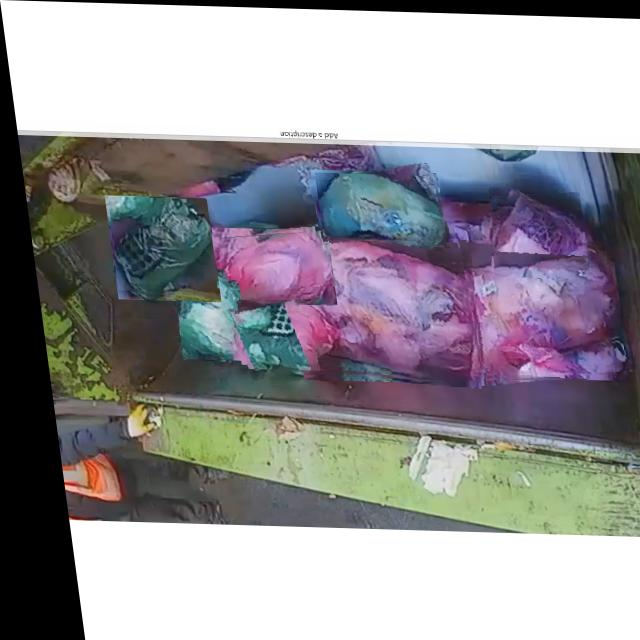general_trashbag: (106, 198, 205, 293), (314, 172, 438, 238), (226, 298, 308, 369), (170, 268, 227, 358)
other_trashbag: (284, 232, 463, 382), (457, 240, 609, 377), (212, 229, 327, 303), (486, 190, 580, 274)
